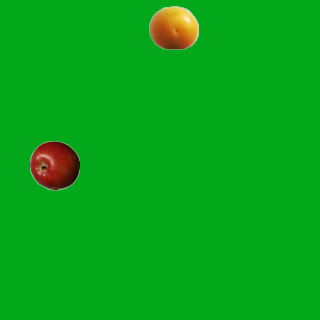Apple Braeburn: (29, 140, 79, 190)
Cherry Wax Yellow: (148, 2, 198, 52)
